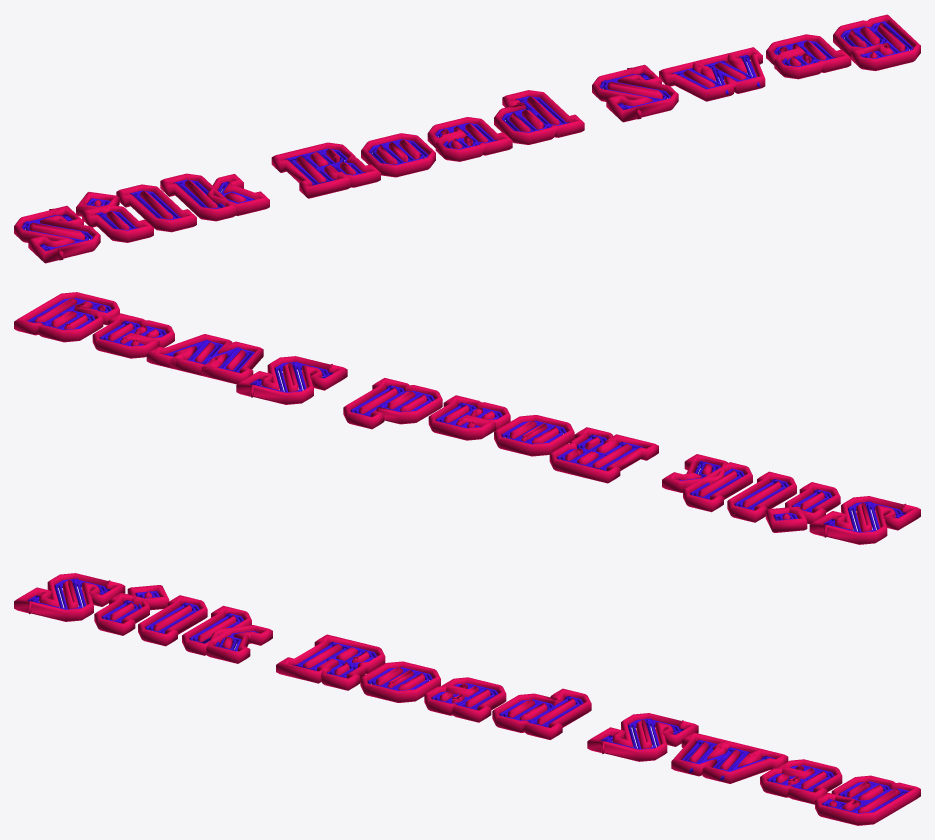
Rendered from neon1.obj.
The picture shows the model from 3 angles, top to bottom: view 1: azimuth 30°, elevation 25°; view 2: azimuth 150°, elevation 25°; view 3: azimuth 330°, elevation 25°; orthographic projection.
Parts seen in each view (by area): view 1: Silk_Road_Swag, Silk_Road_Swag.001_Silk_Road_Swag.002; view 2: Silk_Road_Swag, Silk_Road_Swag.001_Silk_Road_Swag.002; view 3: Silk_Road_Swag, Silk_Road_Swag.001_Silk_Road_Swag.002.
Boxes of the visible parts, x1,y1,x2,y2 form: Silk_Road_Swag: (14, 14, 920, 263); Silk_Road_Swag.001_Silk_Road_Swag.002: (21, 21, 912, 250); Silk_Road_Swag: (14, 292, 920, 544); Silk_Road_Swag.001_Silk_Road_Swag.002: (27, 298, 906, 532); Silk_Road_Swag: (14, 573, 920, 825); Silk_Road_Swag.001_Silk_Road_Swag.002: (27, 578, 909, 813).
Bounding box in the file's own units: 7.5 × 0.1 × 0.9433.
